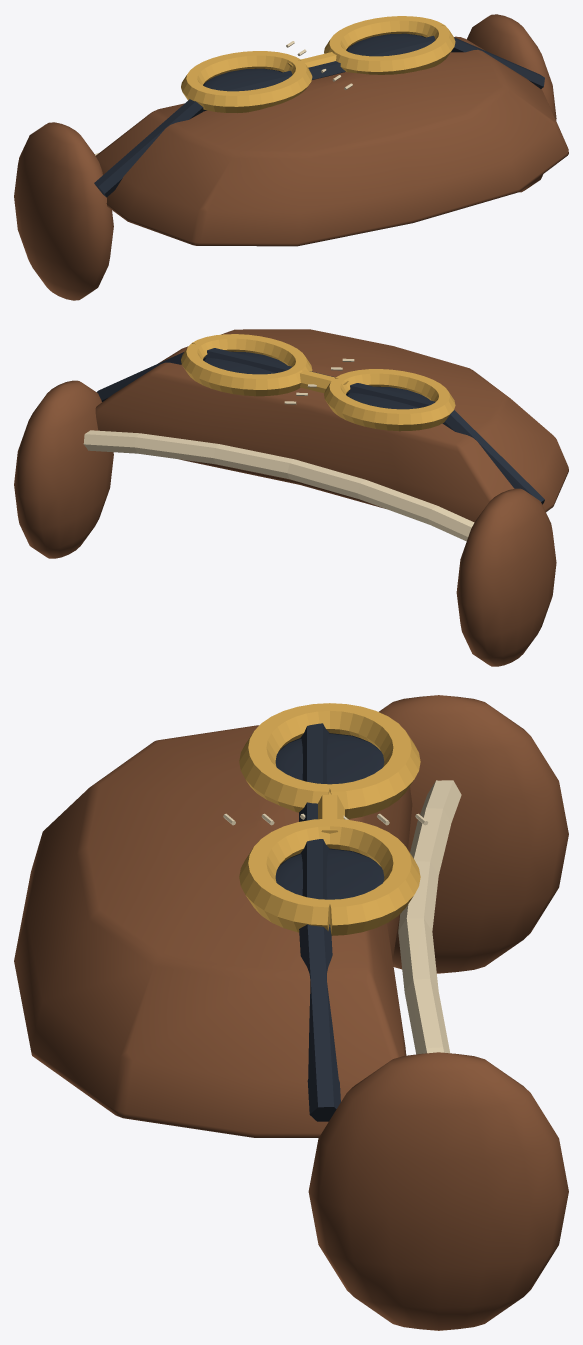
The model's file is pilot.fbx.
3 views of the same model, one above another, from view 1: azimuth 30°, elevation 25°; view 2: azimuth 150°, elevation 25°; view 3: azimuth 270°, elevation 25° (orthographic). The views are drawn at different scales.
Visible parts, largest first — view 1: pilot_armor; view 2: pilot_armor; view 3: pilot_armor.
Boxes of the visible parts, bbox=[...] form: pilot_armor: bbox=[14, 14, 568, 300]; pilot_armor: bbox=[14, 329, 568, 666]; pilot_armor: bbox=[14, 695, 568, 1330].
Bounding box in the file's own units: 4.52 × 1.79 × 2.6.
1 material, 1 textured.
